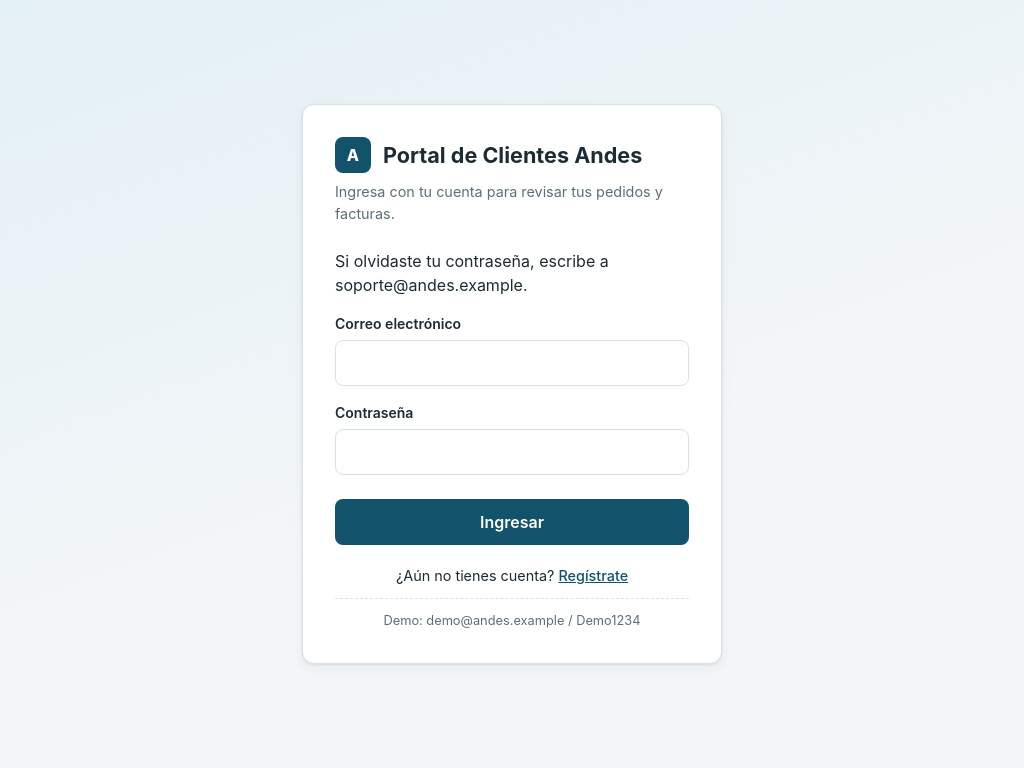
Test: LoginPage › inicia sesión con las credenciales de demostración
Step 1. Type "demo@andes.example" into the field labelled "Correo electrónico" → (512, 363), box top-left (335, 340), bottom-right (689, 386)
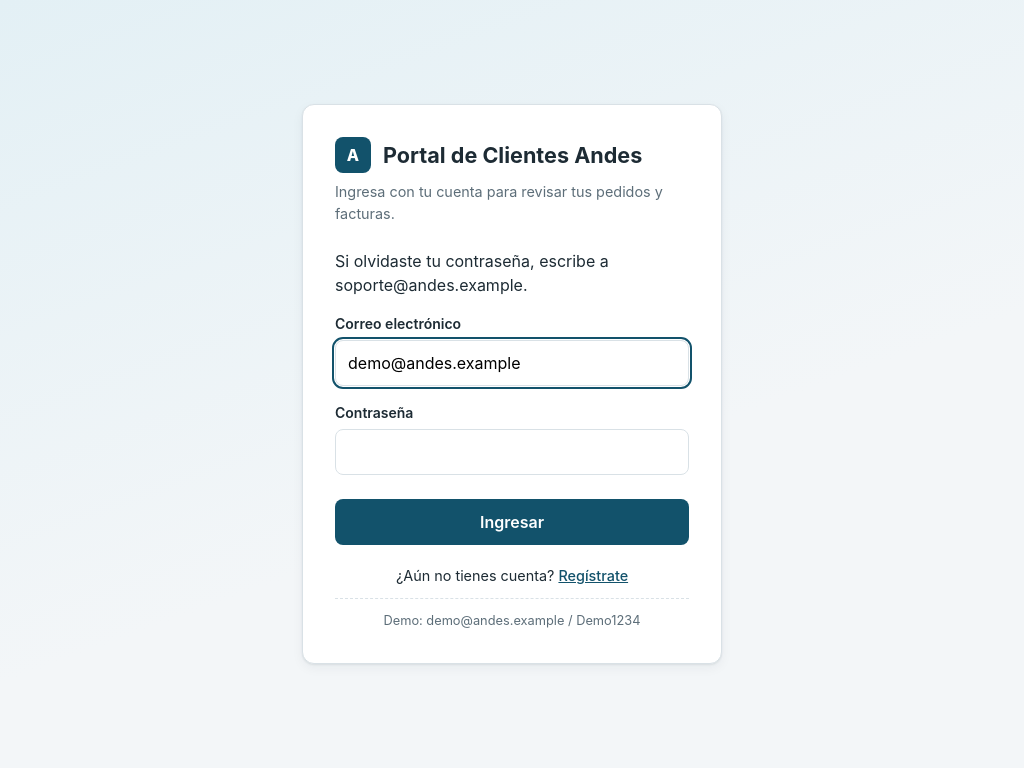
Step 2. Type "Demo1234" into the password field labelled "Contraseña" → (512, 452), box top-left (335, 429), bottom-right (689, 475)
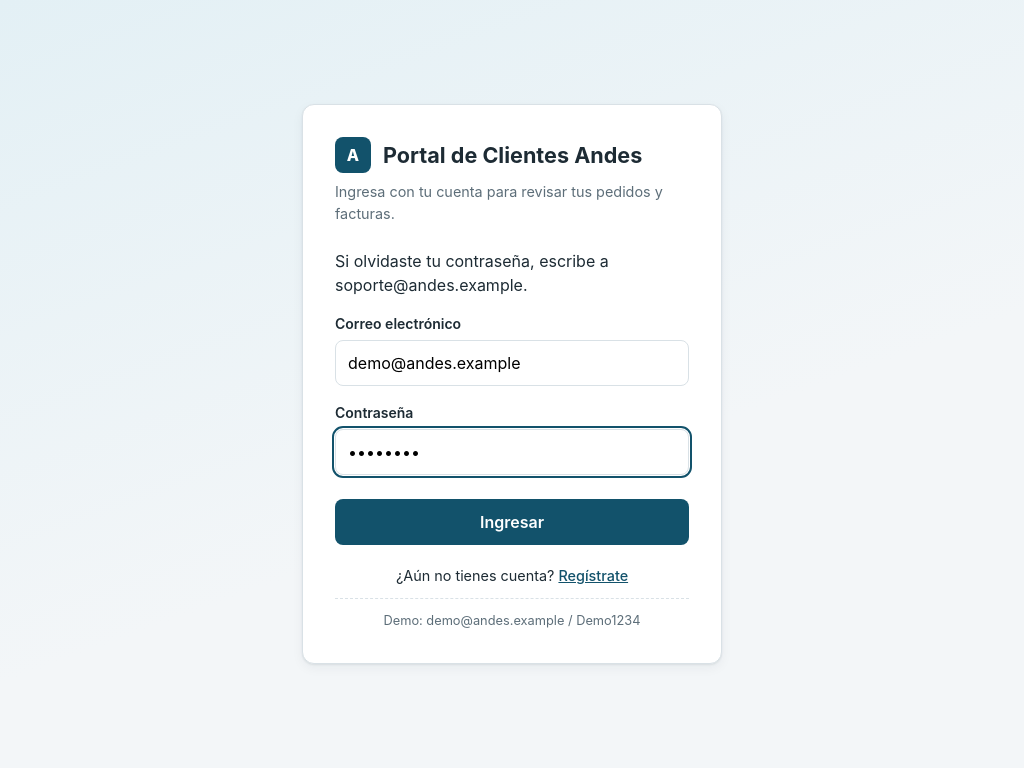
Step 3. Click the button "Ingresar" → (512, 522), box top-left (335, 499), bottom-right (689, 545)
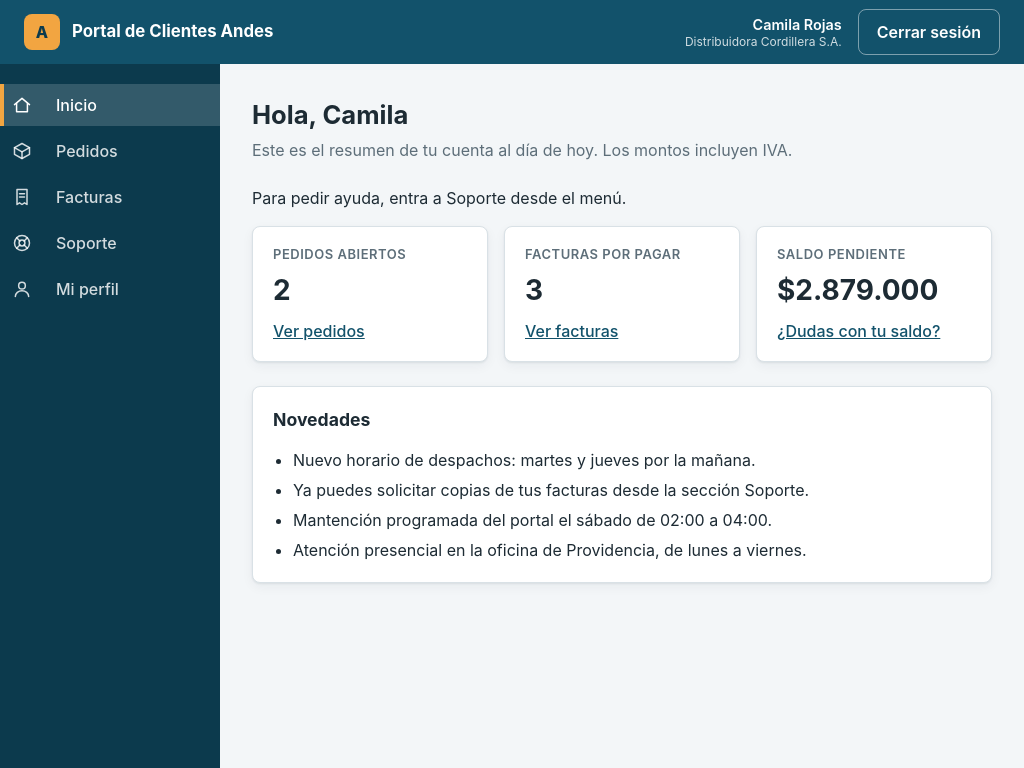
expect the heading "Hola, Camila" is shown: met, box top-left (252, 99), bottom-right (408, 130)
